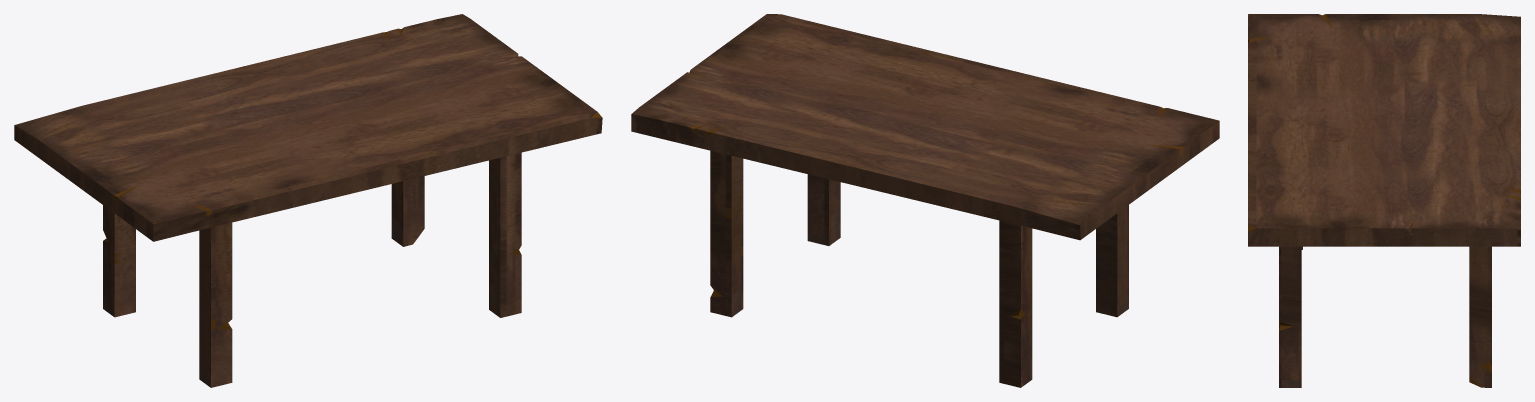
File: table.glb
3 renders of one model, left to right at view 1: azimuth 30°, elevation 25°; view 2: azimuth 150°, elevation 25°; view 3: azimuth 270°, elevation 25°, orthographic. The views are drawn at different scales.
Parts seen in each view (by area): view 1: Cube; view 2: Cube; view 3: Cube.
Boxes of the visible parts, box(x1,y1,x2,y2) form: Cube: box(14, 14, 602, 387); Cube: box(631, 14, 1219, 387); Cube: box(1248, 14, 1520, 387).
Bounding box in the file's own units: 2.16 × 0.8924 × 1.16.
1 material, 1 textured.
